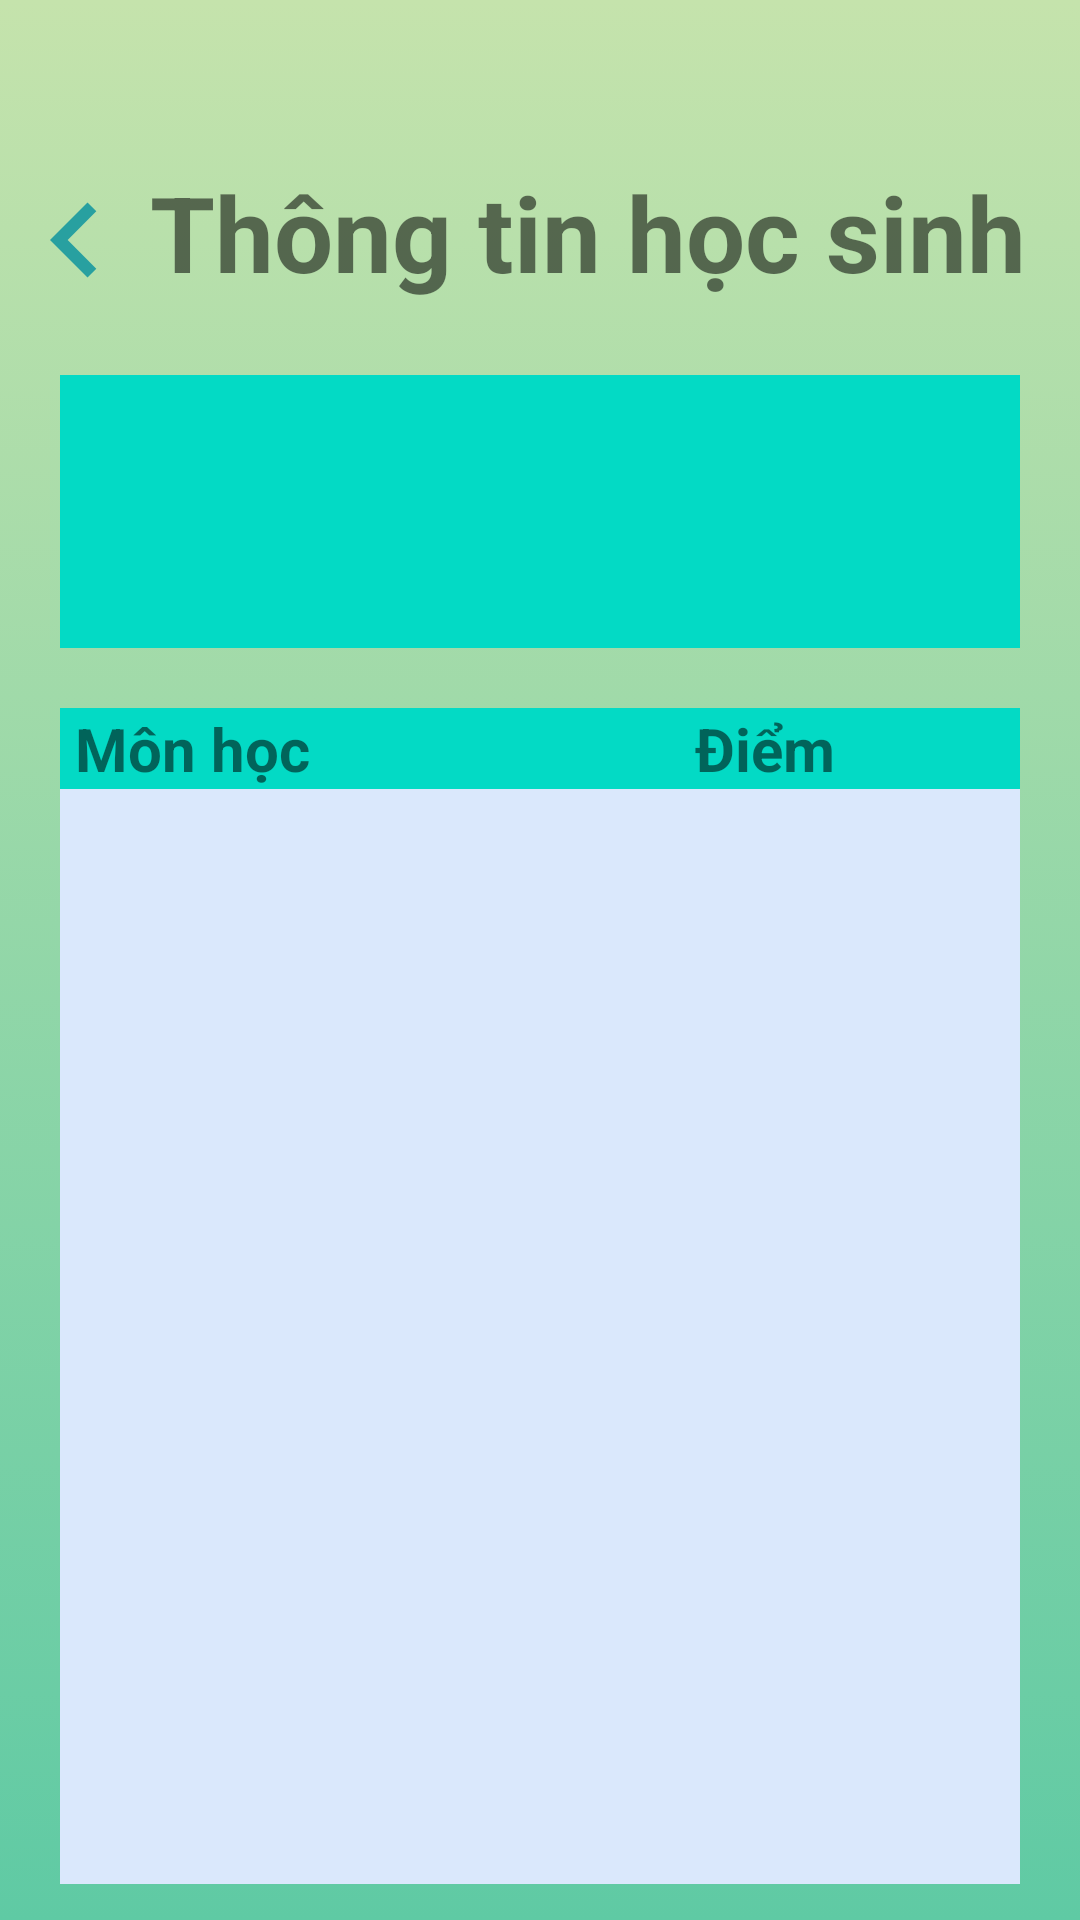

Screen size 1080px x 1920px. Icon name, then its box in pixels as (x1, y1, x2, y2):
turnback: (50, 202, 96, 278)
